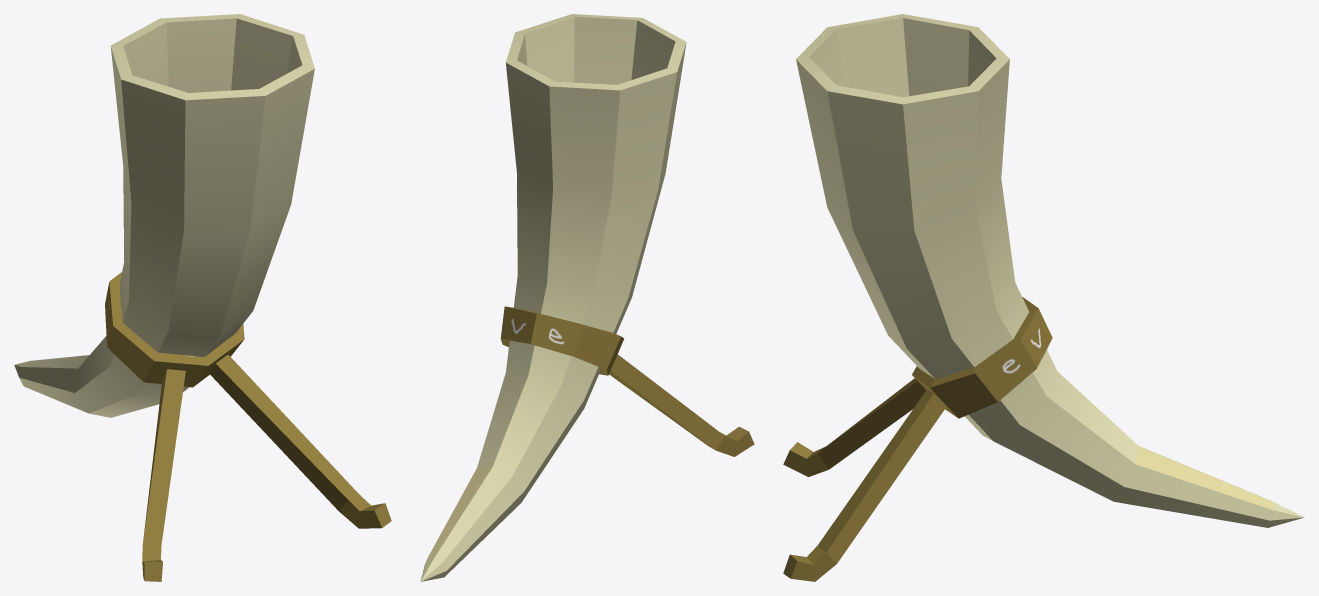
Rendered from Horn.fbx.
3 views of the same model, side by side, from view 1: azimuth 30°, elevation 25°; view 2: azimuth 150°, elevation 25°; view 3: azimuth 270°, elevation 25° (orthographic). The views are drawn at different scales.
Parts seen in each view (by area): view 1: Drinkinghorn; view 2: Drinkinghorn; view 3: Drinkinghorn.
Part boxes in pixels (left/top/right/bottom): Drinkinghorn: left=14, top=14, right=391, bottom=581; Drinkinghorn: left=420, top=14, right=754, bottom=581; Drinkinghorn: left=783, top=14, right=1304, bottom=581.
Bounding box in the file's own units: 17.26 × 31.07 × 31.21.
1 material, 1 textured.
